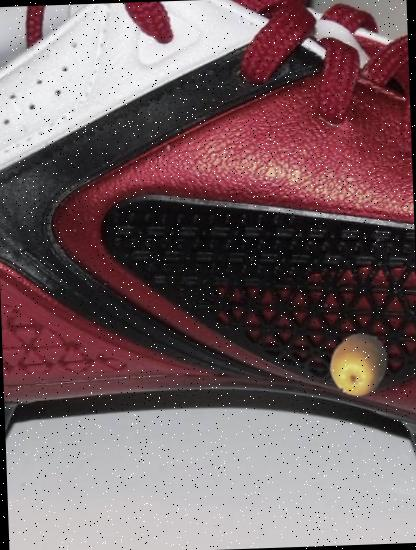Kumquats: (325, 331, 393, 399)
